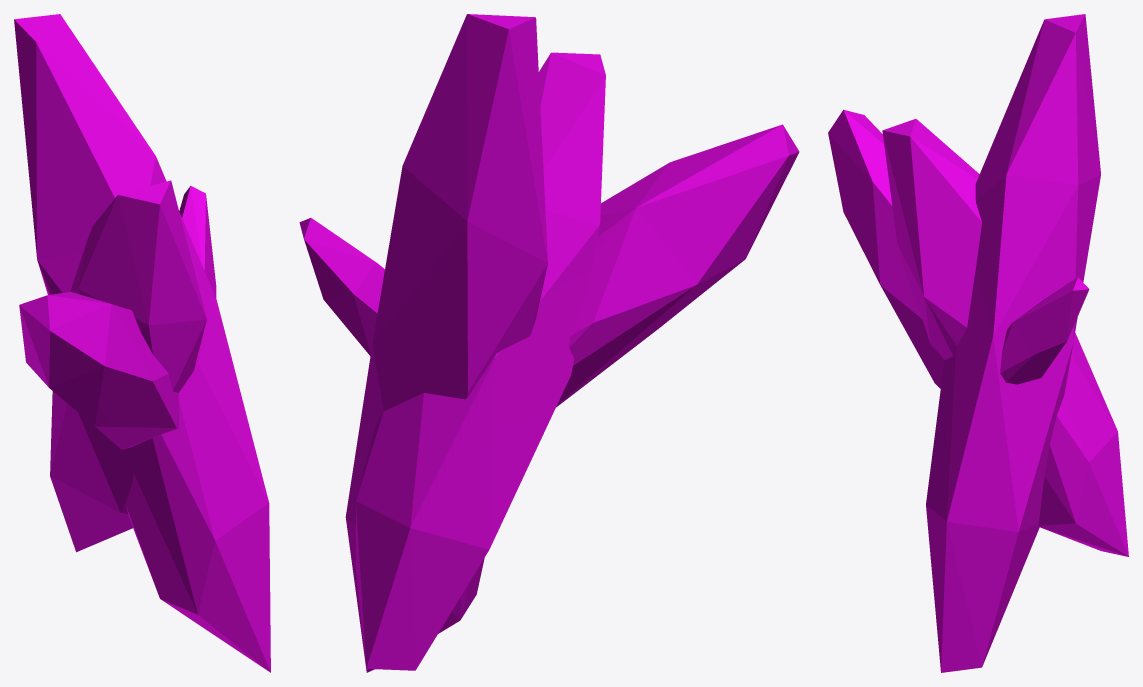
Rendered from Cristal v2.fbx.
The picture shows the model from 3 angles, left to right: view 1: azimuth 30°, elevation 25°; view 2: azimuth 150°, elevation 25°; view 3: azimuth 270°, elevation 25°; orthographic projection. The views are drawn at different scales.
Visible parts, largest first — view 1: Icosphere.004; view 2: Icosphere.004; view 3: Icosphere.004.
Boxes of the visible parts, x1,y1,x2,y2 form: Icosphere.004: (14,14,270,672); Icosphere.004: (299,14,799,672); Icosphere.004: (828,14,1128,672).
Bounding box in the file's own units: 72.38 × 146 × 68.85.
